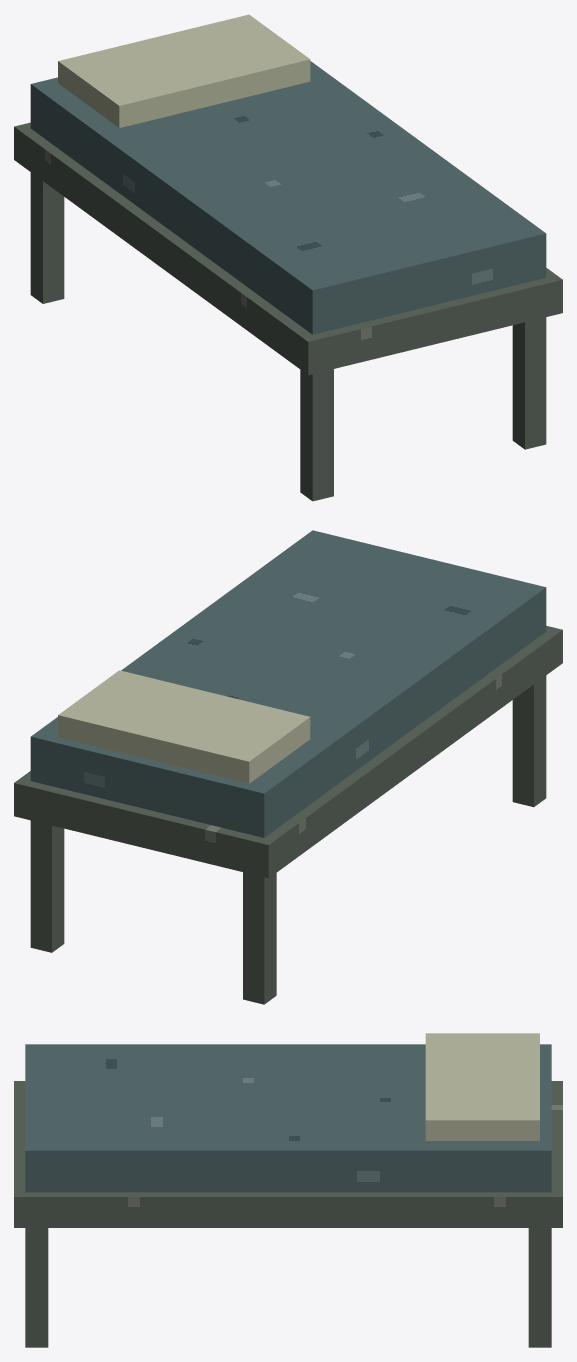
The model's file is exam_bed.gltf.
3 views of the same model, one above another, from view 1: azimuth 30°, elevation 25°; view 2: azimuth 150°, elevation 25°; view 3: azimuth 270°, elevation 25° (orthographic). The views are drawn at different scales.
Parts seen in each view (by area): view 1: pad, frame, pillow, leg (×3); view 2: pad, frame, pillow, leg (×3); view 3: pad, frame, pillow, leg (×2).
Part boxes in pixels (left/top/right/bottom): pad: left=30, top=61, right=546, bottom=334; frame: left=14, top=122, right=562, bottom=375; pillow: left=58, top=14, right=310, bottom=127; leg (×3): left=30, top=172, right=546, bottom=501; pad: left=30, top=530, right=546, bottom=837; frame: left=14, top=626, right=562, bottom=878; pillow: left=58, top=670, right=310, bottom=783; leg (×3): left=30, top=675, right=546, bottom=1004; pad: left=25, top=1044, right=551, bottom=1192; frame: left=14, top=1081, right=562, bottom=1227; pillow: left=425, top=1033, right=539, bottom=1140; leg (×2): left=25, top=1228, right=551, bottom=1347.
Bounding box in the file's own units: 1.5 × 1.31 × 3.
Materials: 3 (3 with a texture image).
